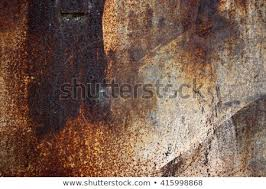rust: (1, 1, 142, 178), (170, 1, 247, 73)
